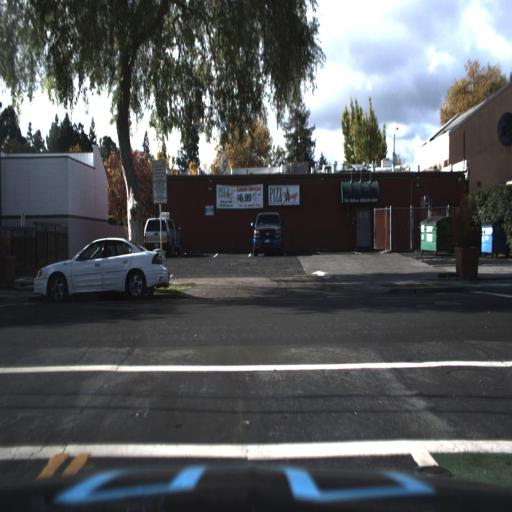car: (31, 229, 178, 317), (249, 207, 286, 258), (139, 213, 179, 253)
